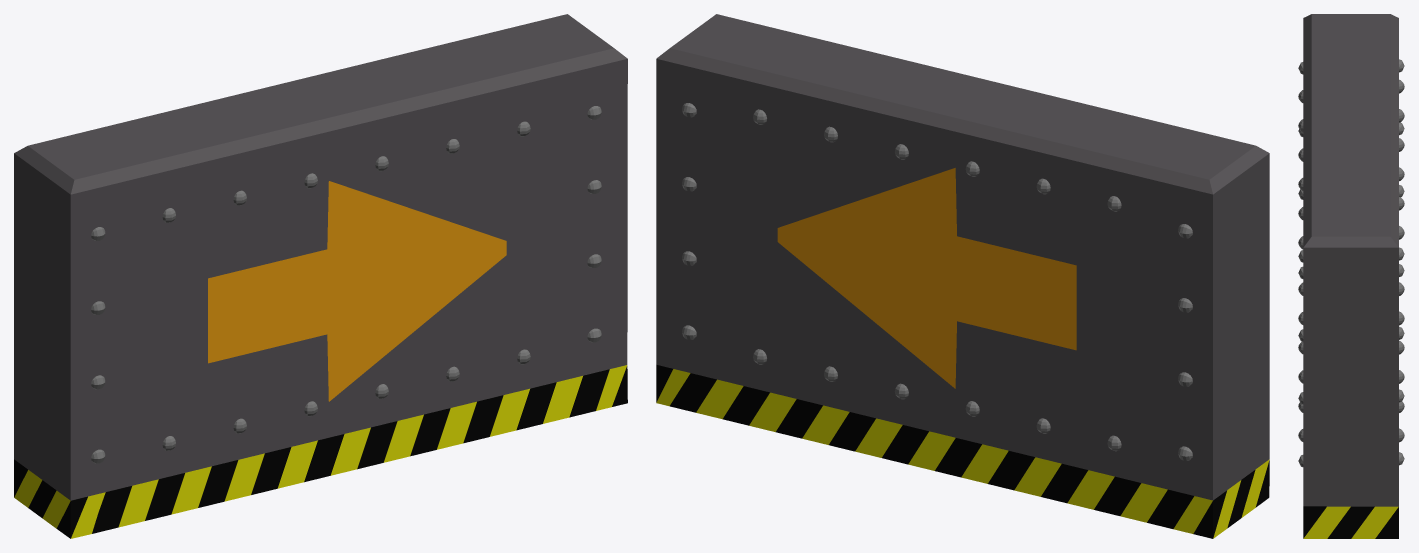
Rendered from MetalWallShort.glb.
The picture shows the model from 3 angles, left to right: view 1: azimuth 30°, elevation 25°; view 2: azimuth 150°, elevation 25°; view 3: azimuth 270°, elevation 25°; orthographic projection. The views are drawn at different scales.
Visible parts, largest first — view 1: Cube.001, Plane.003, Sphere, Sphere.008; view 2: Cube.001, Plane.001, Sphere.007, Sphere.009, Sphere.004, Sphere.005; view 3: Cube.001, Sphere.009, Sphere.007, Sphere.008, Sphere, Sphere.004, Sphere.005, Sphere.003, Sphere.002.
Part boxes in pixels (x1,y1,x2,y2): Cube.001: (14, 14, 627, 538); Plane.003: (208, 181, 506, 401); Sphere: (162, 349, 530, 450); Sphere.008: (162, 121, 530, 222); Cube.001: (656, 14, 1269, 538); Plane.001: (777, 168, 1076, 388); Sphere.007: (753, 349, 1121, 451); Sphere.009: (753, 109, 1121, 211); Sphere.004: (682, 103, 696, 339); Sphere.005: (1178, 224, 1192, 460); Cube.001: (1303, 14, 1398, 538); Sphere.009: (1399, 79, 1404, 239); Sphere.007: (1399, 282, 1404, 442); Sphere.008: (1298, 90, 1303, 249); Sphere: (1298, 282, 1303, 441); Sphere.004: (1399, 264, 1404, 465); Sphere.005: (1399, 59, 1404, 260); Sphere.003: (1298, 266, 1303, 467); Sphere.002: (1298, 62, 1303, 262).
Bounding box in the file's own units: 1.92 × 1.16 × 0.3747.
